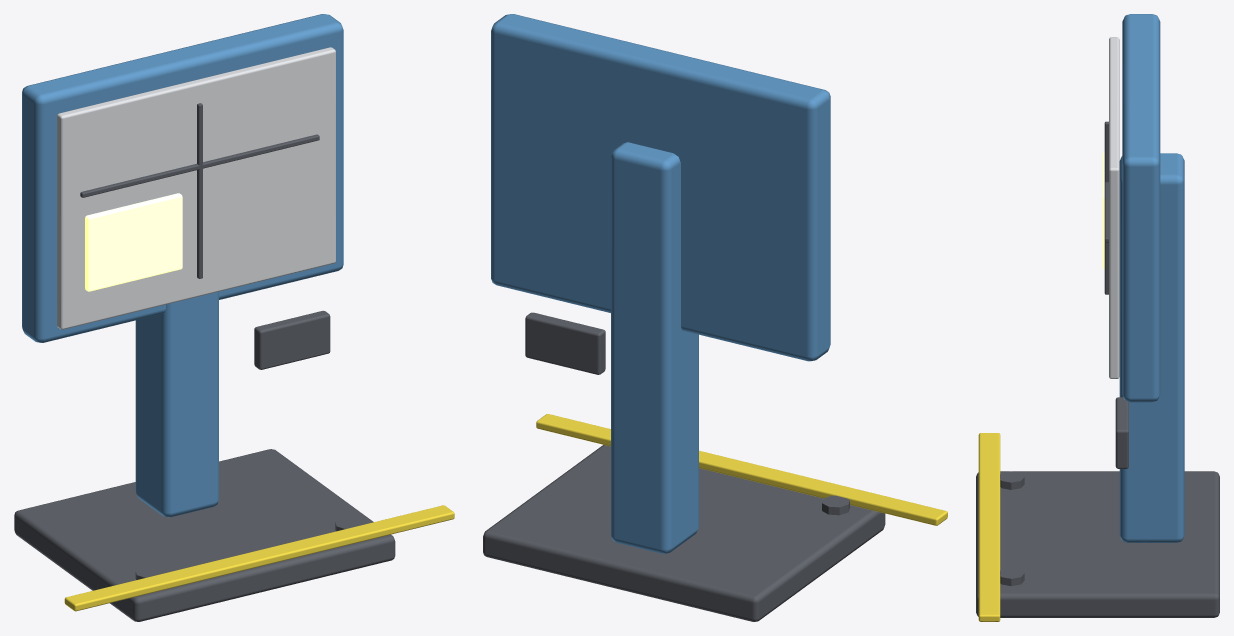
Rendered from headlamp-aim-board.glb.
The picture shows the model from 3 angles, left to right: view 1: azimuth 30°, elevation 25°; view 2: azimuth 150°, elevation 25°; view 3: azimuth 270°, elevation 25°; orthographic projection. The views are drawn at different scales.
Parts seen in each view (by area): view 1: headlamp-aim-board; view 2: headlamp-aim-board; view 3: headlamp-aim-board.
Part boxes in pixels (x1,y1,x2,y2): headlamp-aim-board: (14,14,454,621); headlamp-aim-board: (483,14,947,621); headlamp-aim-board: (976,14,1219,621).
Size of the model in its own units: 1.6 by 1.92 by 0.9.
